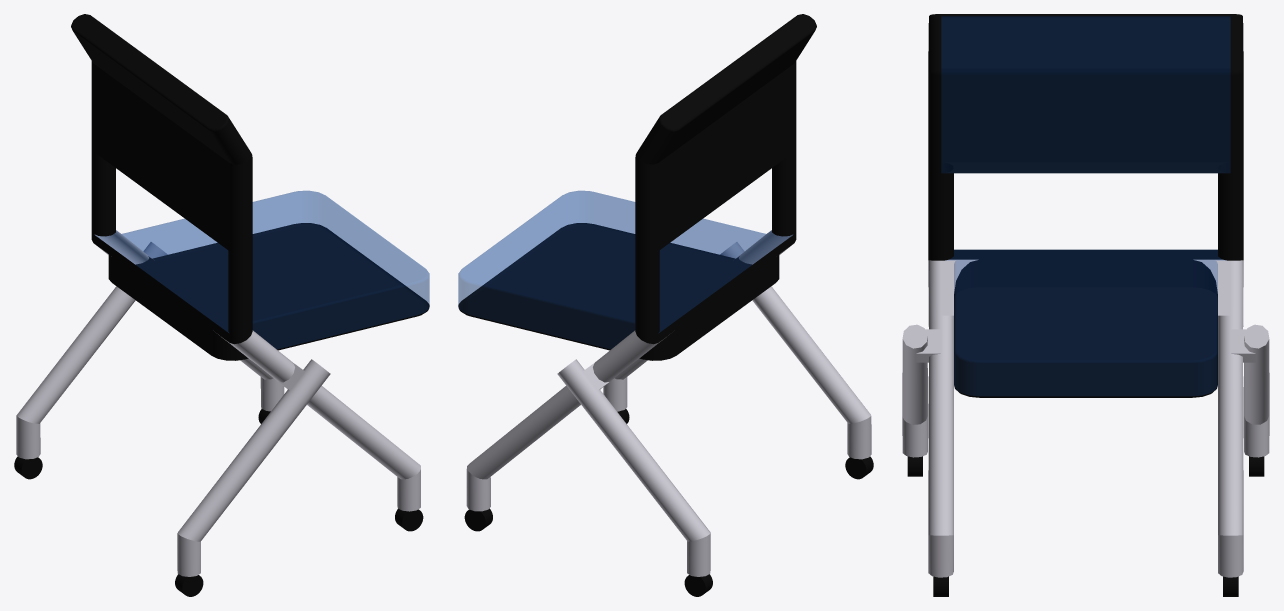
Rendered from chair.dae.
The picture shows the model from 3 angles, left to right: view 1: azimuth 30°, elevation 25°; view 2: azimuth 150°, elevation 25°; view 3: azimuth 270°, elevation 25°; orthographic projection. The views are drawn at different scales.
Visible parts, largest first — view 1: FBXASC227FBXASC130FBXASC189FBXASC227FBXASC131FBXASC170FBXASC; view 2: FBXASC227FBXASC130FBXASC189FBXASC227FBXASC131FBXASC170FBXASC; view 3: FBXASC227FBXASC130FBXASC189FBXASC227FBXASC131FBXASC170FBXASC.
Boxes of the visible parts, x1,y1,x2,y2 form: FBXASC227FBXASC130FBXASC189FBXASC227FBXASC131FBXASC170FBXASC: (16,14,429,576); FBXASC227FBXASC130FBXASC189FBXASC227FBXASC131FBXASC170FBXASC: (458,14,871,576); FBXASC227FBXASC130FBXASC189FBXASC227FBXASC131FBXASC170FBXASC: (902,14,1269,577).
Bounding box in the file's own units: 0.66 × 0.71 × 1.04.
